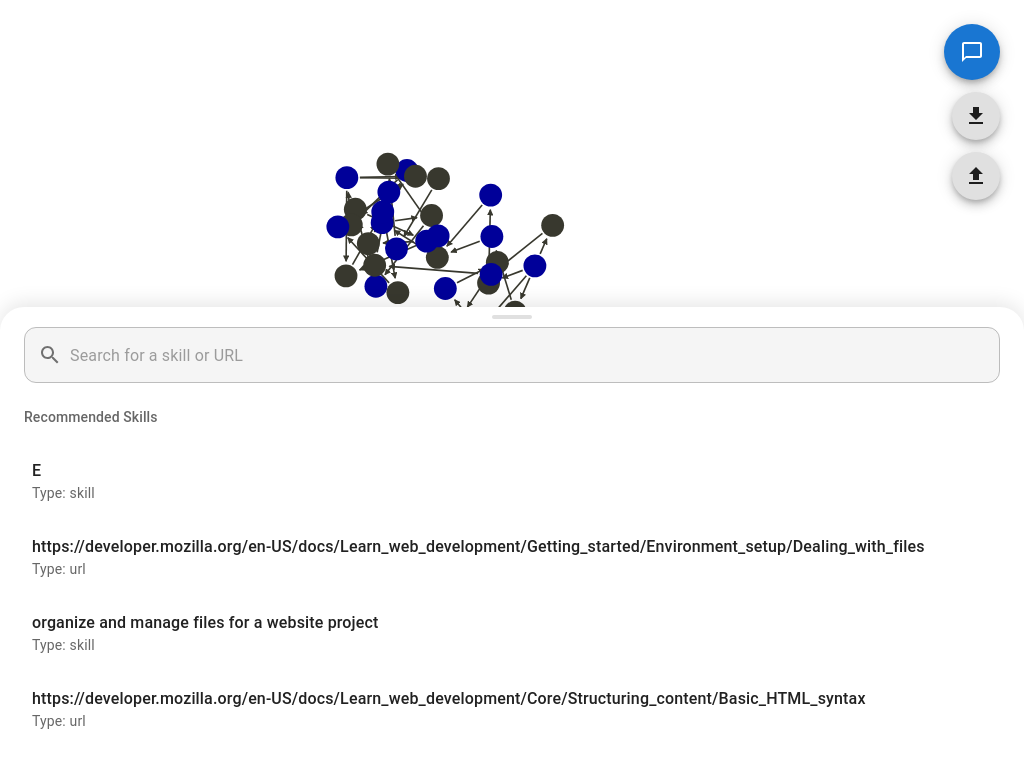
Path Traversal with Move Forward › highlights current node subcard and shows 'Current' label
Click the field with placeholder "Search for a skill or URL" at coordinates (535, 355), box [70,327,1000,383]
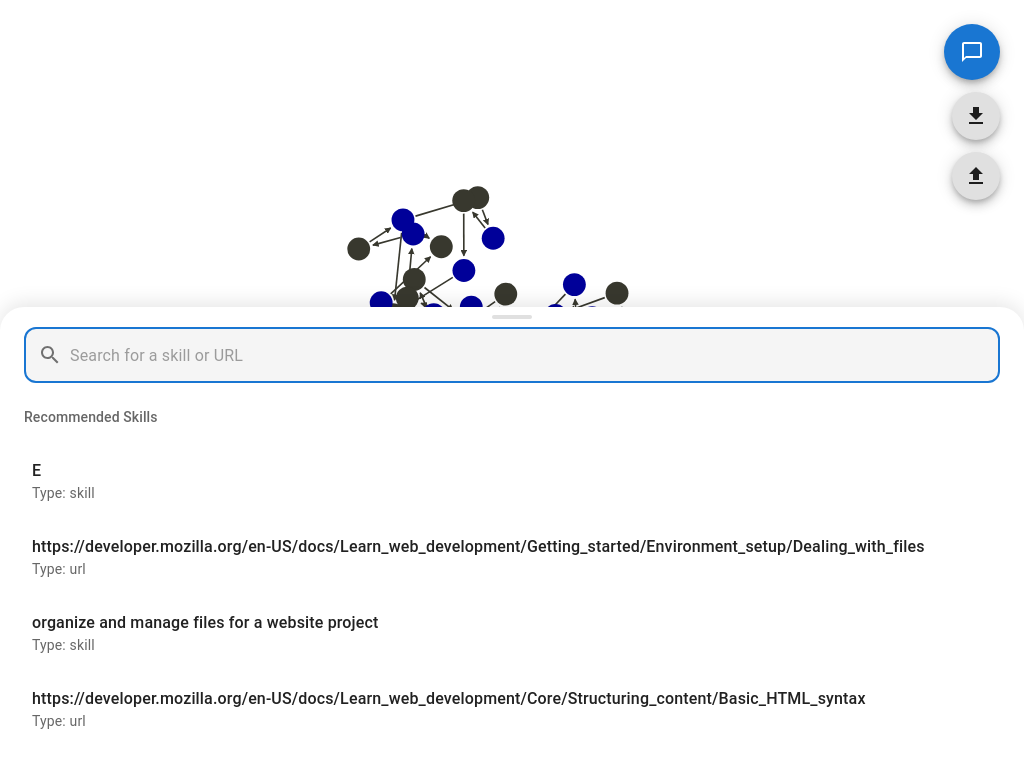
Type keys "javascript"
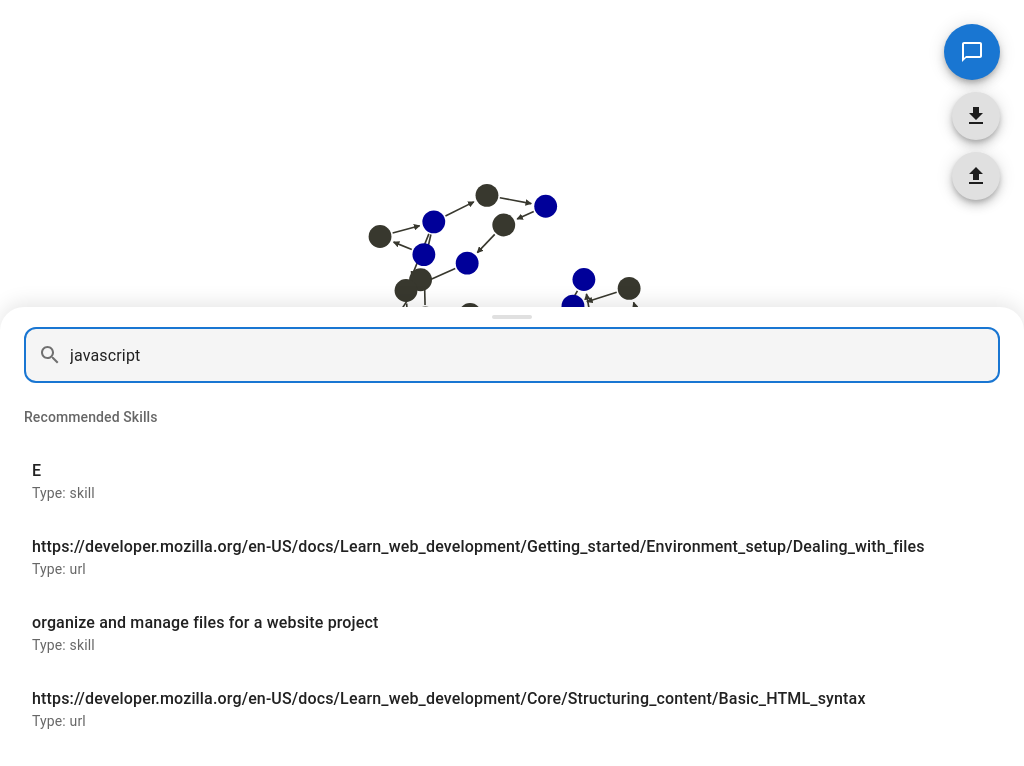
Press Enter
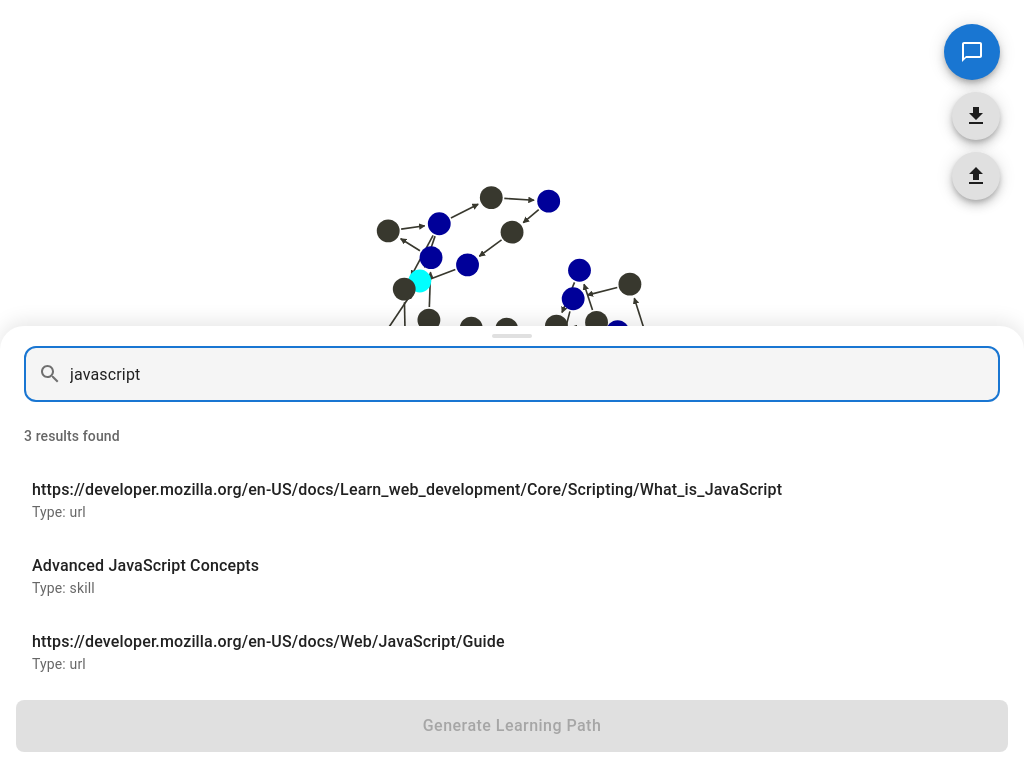
Click the button named "javascript" at coordinates (407, 500), box [32,480,782,520]
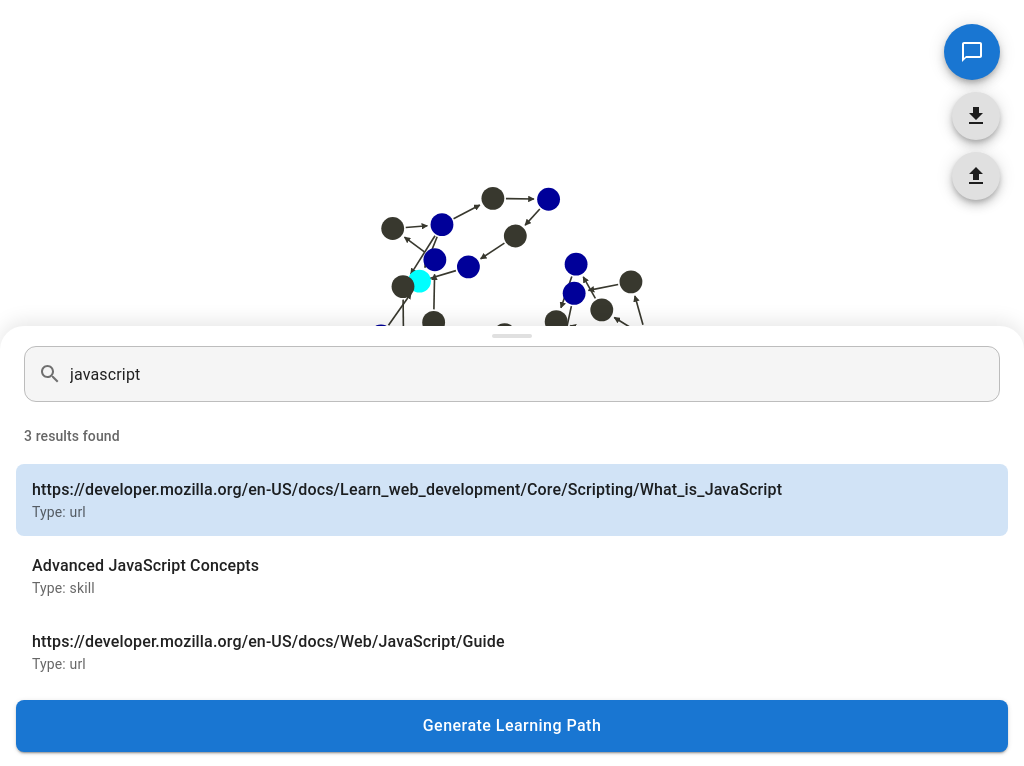
Click the button "Generate Learning Path" at coordinates (512, 726), box [16,700,1008,752]
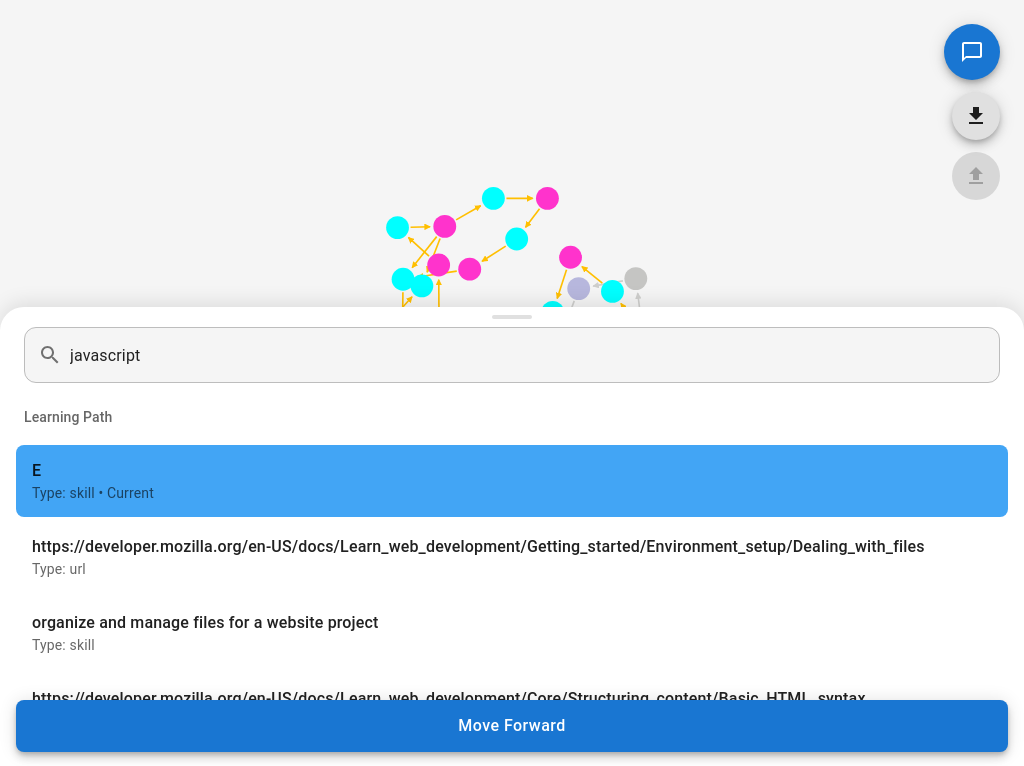
Check: the heading "Learning Path" is shown, box [24,409,112,425]
Check: the text "Type: skill • Current" is shown, box [32,485,154,501]
